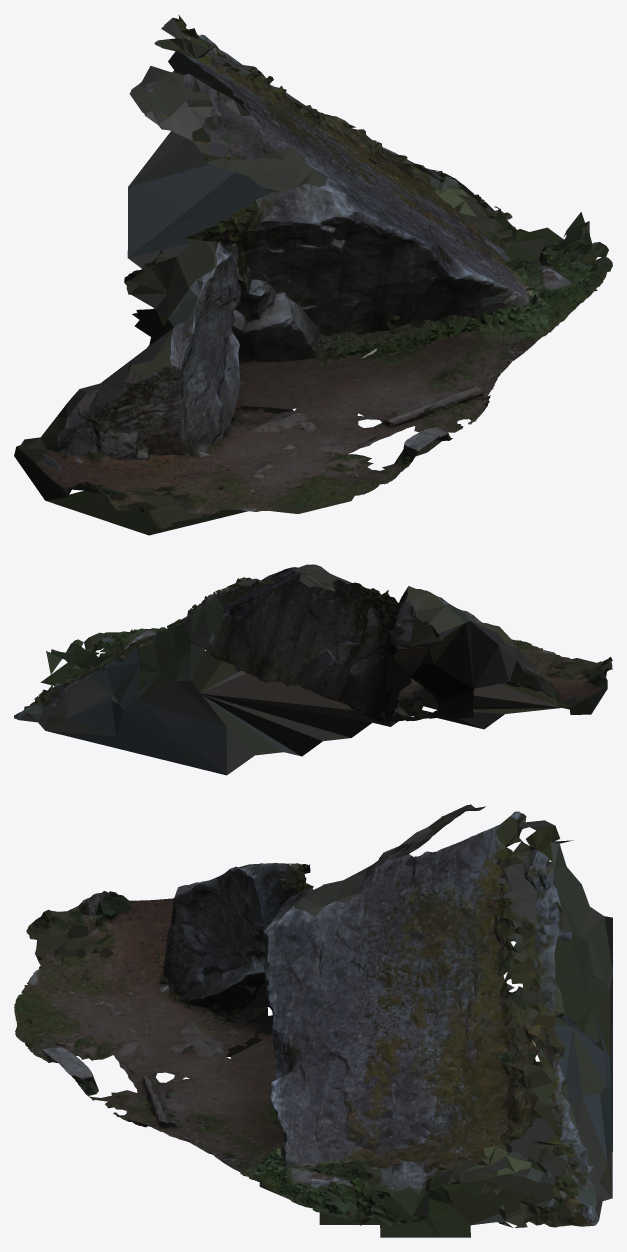
File: HIS_0110_Cleanup_reduced_0.001.glb
3 views of the same model, one above another, from view 1: azimuth 30°, elevation 25°; view 2: azimuth 150°, elevation 25°; view 3: azimuth 270°, elevation 25° (orthographic). The views are drawn at different scales.
Parts seen in each view (by area): view 1: HIS_0110; view 2: HIS_0110; view 3: HIS_0110.
Part boxes in pixels (x1,y1,x2,y2): HIS_0110: (14,15,612,535); HIS_0110: (14,564,612,775); HIS_0110: (14,804,612,1237).
Bounding box in the file's own units: 51.75 × 20.21 × 40.92.
2 materials, 1 textured.
